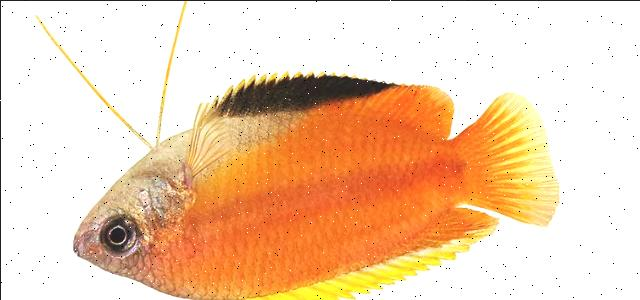Mulut: (49, 209, 99, 275)
Sirip Anal: (194, 62, 461, 142)
Sirip Dada: (174, 95, 240, 185)
Sirip Ekor: (454, 80, 568, 240)
Sirip Perut: (19, 2, 193, 152)
Sirip Punggung: (226, 198, 502, 298)
